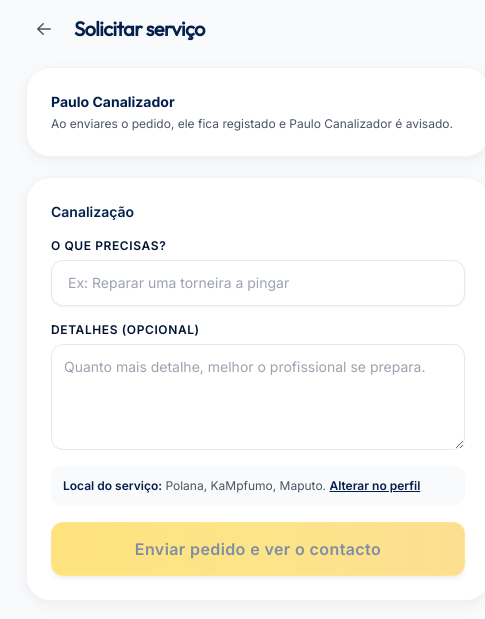
Test: SolicitarServico — depois de enviar › um profissional sem telefone diz que foi avisado por email, sem inventar um número
In the field labelled "O que precisas?": (258, 283) [51,260,465,306], type "Torneira a pingar"
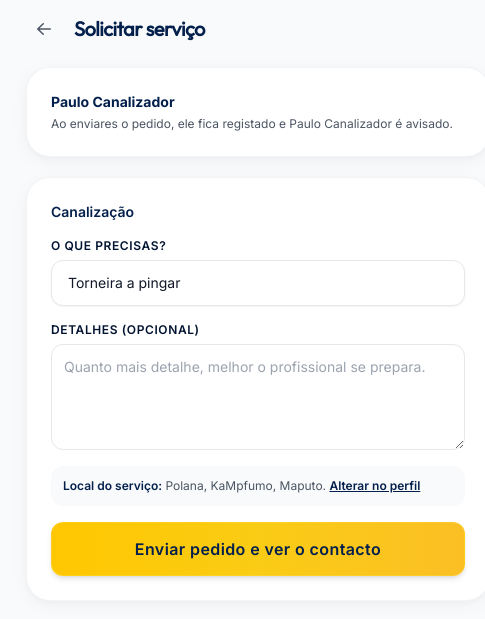
Click the button "Enviar pedido e ver o contacto": (258, 549) [51,522,465,576]
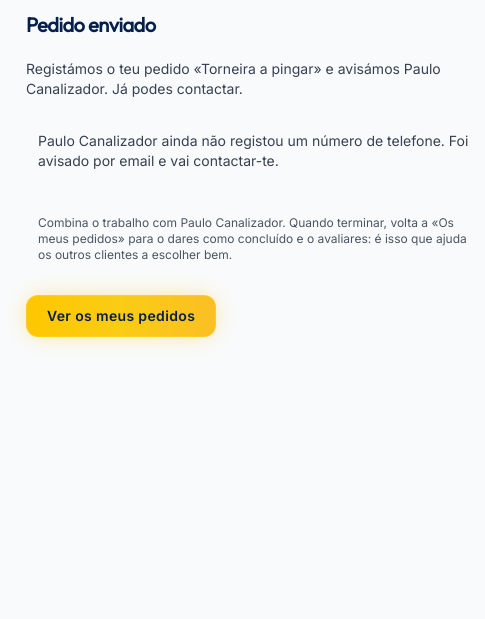
Now the text "ainda não registou um número de telefone" is shown, box [38,132,468,169]
